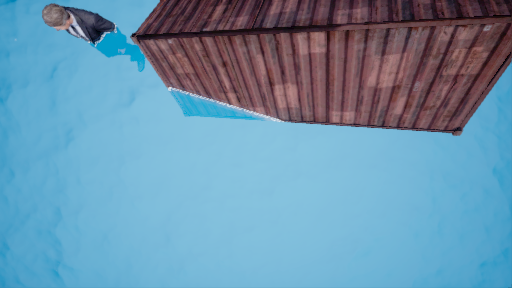person: (37, 5, 155, 81)
